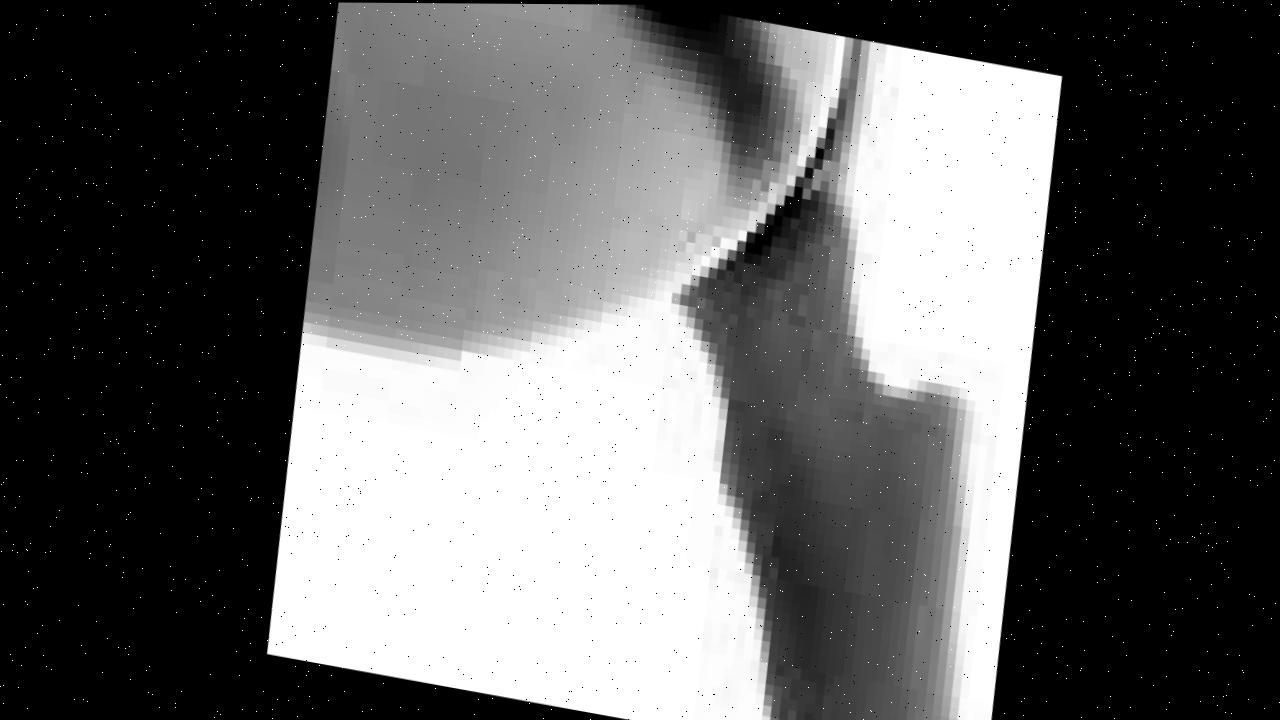drinks Stains: (605, 240, 1055, 720)
